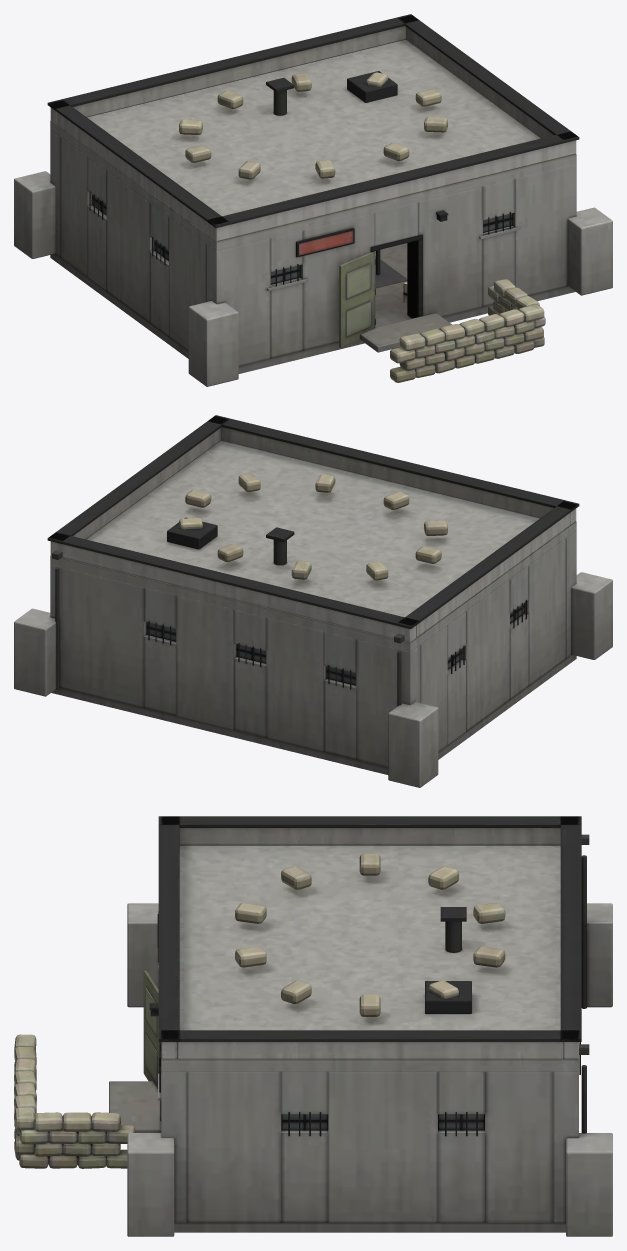
The model's file is bldC.glb.
3 views of the same model, one above another, from view 1: azimuth 30°, elevation 25°; view 2: azimuth 150°, elevation 25°; view 3: azimuth 270°, elevation 25° (orthographic). The views are drawn at different scales.
Visible parts, largest first — view 1: BldC_Shell, BldC_Roof, BldC_Interior; view 2: BldC_Shell, BldC_Roof; view 3: BldC_Roof, BldC_Shell.
Boxes of the visible parts, box(x1,y1,x2,y2) form: BldC_Shell: box(14, 130, 612, 386); BldC_Roof: box(47, 14, 579, 251); BldC_Interior: box(375, 249, 407, 303); BldC_Shell: box(14, 531, 612, 787); BldC_Roof: box(47, 415, 579, 652); BldC_Roof: box(158, 816, 581, 1071); BldC_Shell: box(14, 834, 612, 1236).
Bounding box in the file's own units: 11.3 × 4.43 × 11.47.
Materials: 3 (3 with a texture image).
